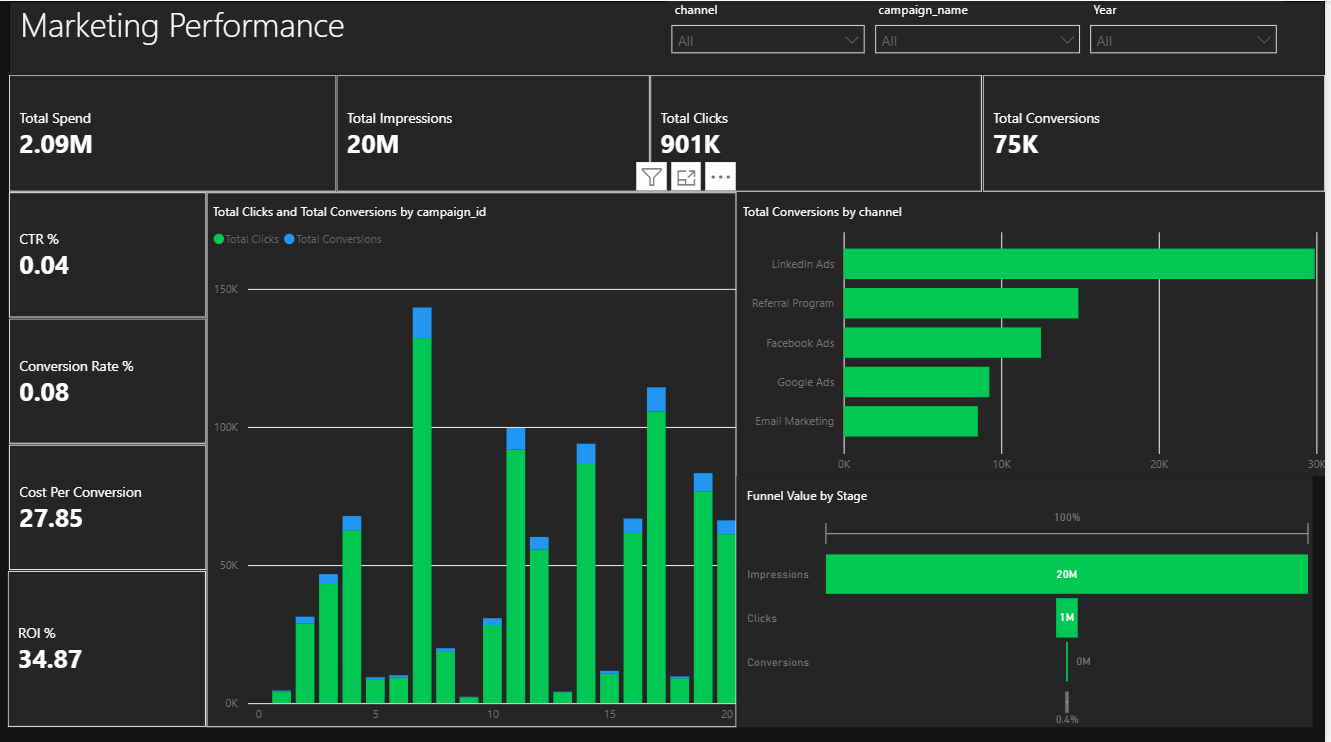

What the dashboard file says about the page in this screenshot:
{"tool":"powerbi","page":{"name":"Page 4","canvas":[1280,720],"ordinal":3},"visuals":[{"type":"textbox","box":[9.7,0,1270.4,71.2],"z":0},{"type":"cardVisual","fields":{"Data":["Date.Total Spend"]},"box":[9.7,71.2,316.1,113.4],"z":1000},{"type":"cardVisual","fields":{"Data":["Date.Total Impressions"]},"box":[326,71.8,302.1,113.3],"z":2000},{"type":"cardVisual","fields":{"Data":["Date.Total Clicks"]},"box":[628.6,71.2,320.9,113.4],"z":3000},{"type":"cardVisual","fields":{"Data":["Date.Total Conversions"]},"box":[949.5,71.2,330.6,113.4],"z":4000},{"type":"cardVisual","fields":{"Data":["Date.CTR %"]},"box":[9.7,184.6,190.6,121.9],"z":5000},{"type":"cardVisual","fields":{"Data":["Date.Conversion Rate %"]},"box":[9.7,306.4,190.6,121.9],"z":6000},{"type":"cardVisual","fields":{"Data":["Date.Cost Per Conversion"]},"box":[9.7,428.3,190.6,121.9],"z":7000},{"type":"cardVisual","fields":{"Data":["Date.ROI %"]},"box":[8.4,550.1,191.8,150.8],"z":8000},{"type":"barChart","fields":{"Category":["ai_startup_command_center marketing_campaigns.channel"],"Y":["Date.Total Conversions"]},"box":[711.8,184.6,568.2,273.9],"z":9000},{"type":"columnChart","fields":{"Category":["ai_startup_command_center campaign_performance.campaign_id"],"Y":["Date.Total Clicks","Date.Total Conversions"]},"box":[200.2,185.1,511.1,516.1],"z":10000},{"type":"funnel","fields":{"Category":["Marketing Funnel.Stage"],"Y":["Marketing Funnel.Funnel Value"]},"box":[711.8,458.4,556.2,242.5],"z":11000},{"type":"slicer","fields":{"Values":["ai_startup_command_center marketing_campaigns.channel"]},"box":[644.5,0,196.4,61.7],"z":12000},{"type":"slicer","fields":{"Values":["ai_startup_command_center marketing_campaigns.campaign_name"]},"box":[840.9,0,207.7,61.7],"z":13000},{"type":"slicer","fields":{"Values":["Date.Date.Variation.Date Hierarchy.Year"]},"box":[1048.6,0,190.1,61.7],"z":14000}]}

Visuals, with their boxes in screenshot pixels (x1, y1, x2, y2), scaled from the page's 1280x720 canvas onto the 1331x742 screenshot:
textbox: x1=10, y1=0, x2=1330, y2=73
cardVisual - Date.Total Spend: x1=10, y1=73, x2=339, y2=190
cardVisual - Date.Total Impressions: x1=339, y1=74, x2=653, y2=191
cardVisual - Date.Total Clicks: x1=654, y1=73, x2=987, y2=190
cardVisual - Date.Total Conversions: x1=987, y1=73, x2=1330, y2=190
cardVisual - Date.CTR %: x1=10, y1=190, x2=208, y2=316
cardVisual - Date.Conversion Rate %: x1=10, y1=316, x2=208, y2=441
cardVisual - Date.Cost Per Conversion: x1=10, y1=441, x2=208, y2=567
cardVisual - Date.ROI %: x1=9, y1=567, x2=208, y2=722
barChart - ai_startup_command_center marketing_campaigns.channel x Date.Total Conversions: x1=740, y1=190, x2=1330, y2=473
columnChart - ai_startup_command_center campaign_performance.campaign_id x Date.Total Clicks: x1=208, y1=191, x2=740, y2=723
funnel - Marketing Funnel.Stage x Marketing Funnel.Funnel Value: x1=740, y1=472, x2=1319, y2=722
slicer - ai_startup_command_center marketing_campaigns.channel: x1=670, y1=0, x2=874, y2=64
slicer - ai_startup_command_center marketing_campaigns.campaign_name: x1=874, y1=0, x2=1090, y2=64
slicer - Date.Date.Variation.Date Hierarchy.Year: x1=1090, y1=0, x2=1288, y2=64
